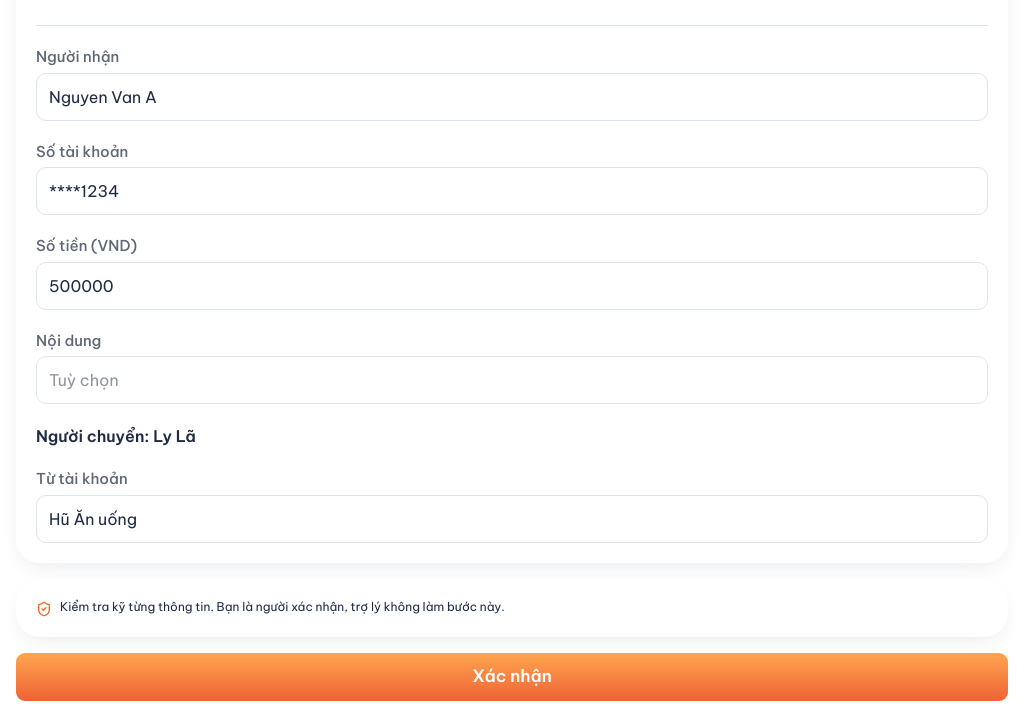
Test: TransferConfirm — always create + categorize › shows an error and does not change category when update fails (F#8)
(page scrolled)
Click the button with aria-label "Xác nhận chuyển tiền" at (512, 676), box [16,652,1008,700]
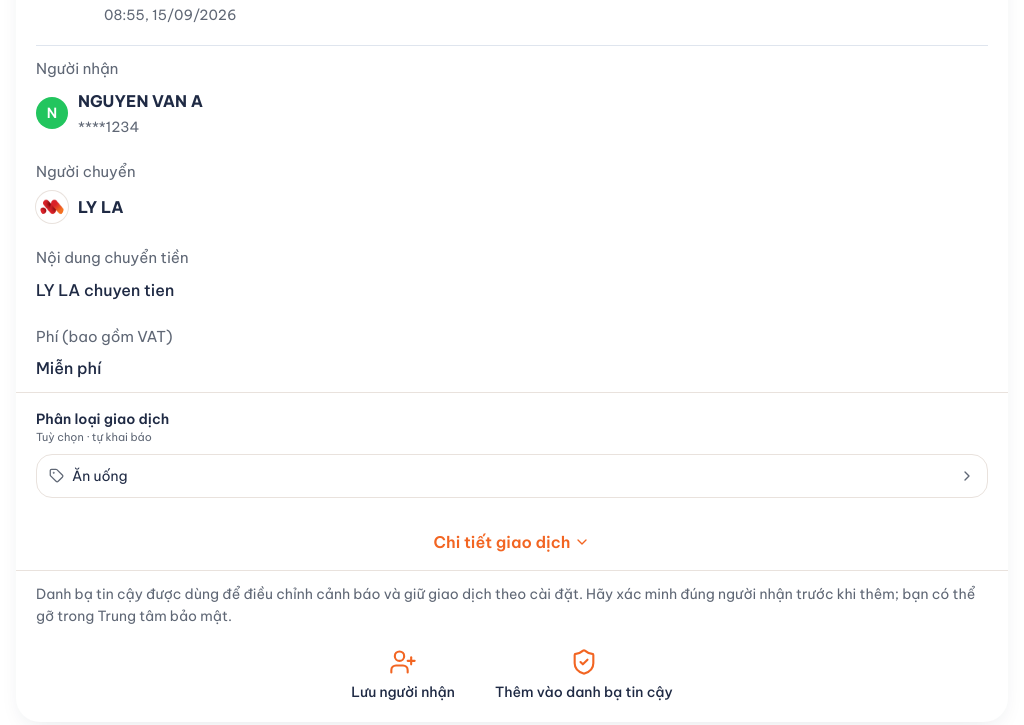
Click the button "Ăn uống" at (100, 476), box [36,454,988,498]
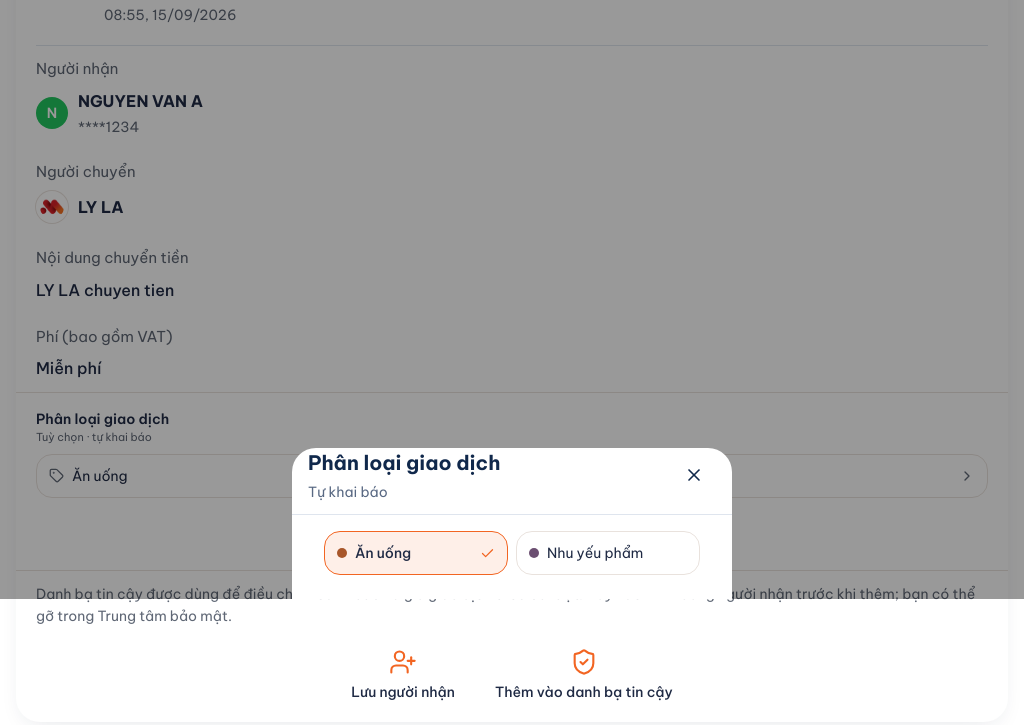
Click the button "Nhu yếu phẩm" at (608, 553), box [516,531,700,575]
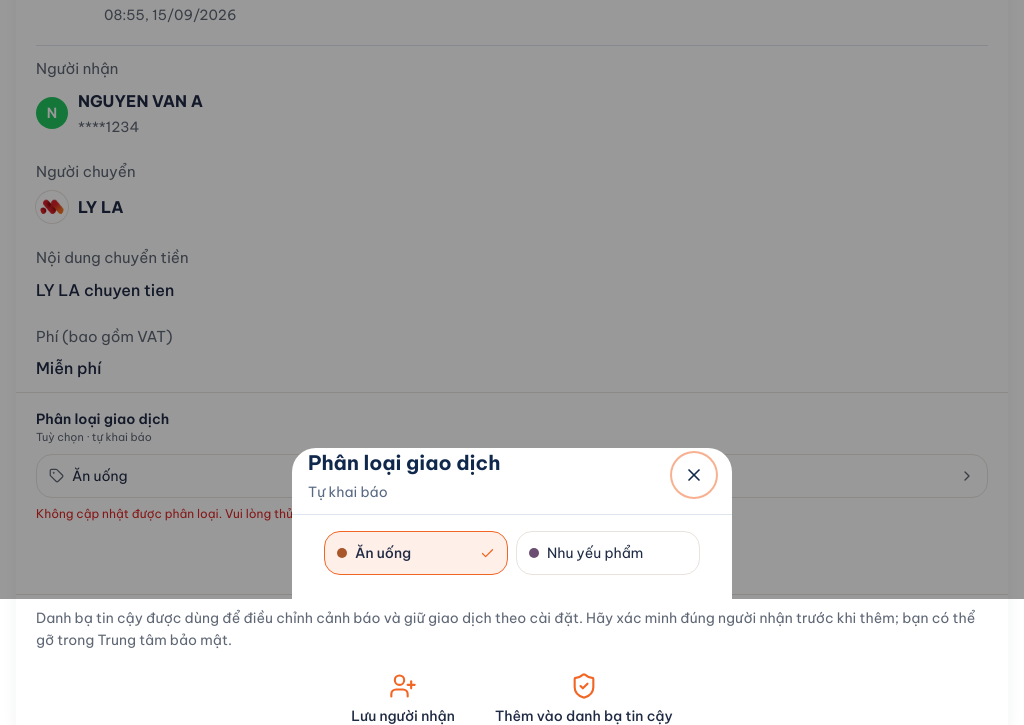
Expected: the text "Không cập nhật được phân loại. Vui lòng thử lại." is shown, [36,506,313,520]
